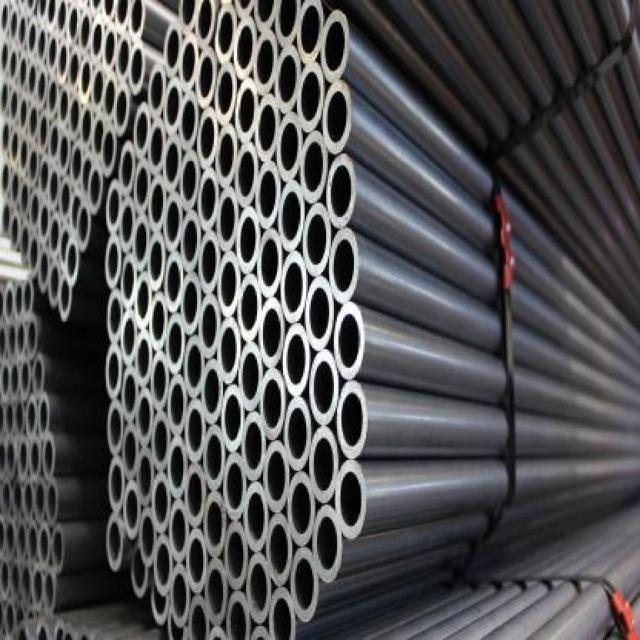pipe: (335, 461, 367, 539), (334, 301, 365, 380), (313, 505, 344, 583), (329, 227, 360, 304), (309, 425, 339, 503), (322, 80, 353, 155), (309, 350, 339, 425), (302, 203, 332, 277), (304, 276, 334, 350), (327, 153, 356, 229), (299, 130, 329, 203), (291, 546, 319, 623), (288, 471, 316, 547), (321, 10, 350, 83), (265, 512, 293, 587), (282, 323, 310, 397), (280, 251, 308, 324), (284, 398, 312, 471), (278, 180, 306, 251), (298, 61, 325, 134), (259, 368, 286, 441), (263, 441, 290, 514), (276, 112, 303, 183), (258, 297, 285, 368), (256, 229, 283, 299), (275, 44, 302, 113), (255, 160, 282, 229), (239, 341, 264, 412), (244, 482, 269, 553), (247, 553, 272, 624), (296, 0, 324, 63), (255, 93, 280, 163), (241, 411, 266, 481), (237, 273, 262, 342), (224, 522, 249, 590), (253, 29, 278, 97), (235, 142, 260, 207), (237, 205, 260, 275), (223, 452, 246, 522), (217, 250, 240, 318), (218, 317, 241, 385), (221, 384, 244, 452), (203, 490, 226, 558), (205, 558, 228, 626), (234, 15, 257, 82), (268, 586, 296, 640), (235, 78, 258, 143), (201, 358, 224, 423), (185, 462, 207, 529), (216, 186, 238, 252), (215, 62, 238, 125), (215, 2, 238, 65), (197, 167, 219, 232), (185, 399, 207, 464), (199, 293, 220, 360), (186, 528, 207, 595), (197, 107, 219, 170), (216, 123, 237, 188), (199, 230, 220, 295), (204, 426, 225, 491), (196, 46, 217, 109), (181, 272, 202, 335), (275, 0, 302, 48), (184, 335, 204, 398), (168, 373, 188, 436), (179, 149, 199, 211), (180, 211, 200, 273), (169, 500, 189, 562), (154, 535, 174, 597), (171, 563, 190, 628), (226, 592, 251, 640), (168, 436, 187, 499), (166, 313, 185, 375), (152, 471, 171, 533), (179, 32, 198, 94), (164, 75, 183, 136), (179, 91, 198, 152), (147, 231, 166, 292), (164, 251, 183, 312), (194, 0, 217, 50), (164, 192, 183, 252), (150, 351, 169, 411), (163, 134, 182, 193), (149, 174, 168, 233), (149, 291, 168, 350), (135, 330, 154, 388), (135, 388, 154, 446), (152, 412, 171, 470), (135, 447, 154, 505), (148, 62, 167, 119), (133, 102, 152, 159), (132, 214, 151, 271), (164, 21, 183, 78), (148, 118, 167, 174), (130, 543, 149, 598), (123, 480, 140, 540), (140, 507, 157, 567), (135, 271, 152, 330), (121, 308, 138, 367), (106, 513, 123, 572), (105, 233, 122, 290), (120, 253, 137, 310), (122, 423, 139, 480), (120, 196, 137, 252), (189, 595, 210, 640), (106, 344, 123, 399), (122, 366, 139, 421), (107, 400, 124, 455), (109, 457, 126, 512), (113, 82, 130, 136), (119, 140, 136, 194), (134, 158, 151, 212), (106, 180, 123, 233), (129, 42, 146, 95), (107, 288, 123, 344), (252, 0, 277, 34), (101, 124, 117, 177), (88, 161, 104, 214), (116, 34, 133, 83), (102, 71, 118, 122), (102, 23, 118, 74), (128, 0, 147, 42), (35, 520, 51, 567), (51, 525, 67, 571), (30, 566, 46, 612), (43, 570, 60, 613), (79, 55, 93, 106), (65, 236, 79, 287), (91, 13, 105, 64), (45, 480, 61, 523), (92, 63, 106, 112), (69, 139, 83, 188), (68, 93, 82, 141), (92, 112, 106, 160), (77, 203, 91, 251), (56, 39, 70, 87), (42, 432, 56, 480), (32, 478, 48, 520), (79, 101, 93, 148), (59, 275, 73, 322), (59, 176, 73, 222), (58, 83, 71, 132), (58, 223, 71, 272), (79, 7, 92, 56), (68, 45, 82, 90), (28, 436, 42, 481), (38, 245, 51, 293), (48, 260, 61, 308), (58, 132, 72, 175), (25, 521, 39, 564), (66, 1, 80, 43), (38, 199, 51, 244), (48, 213, 61, 258), (12, 397, 26, 437), (47, 76, 60, 119), (28, 234, 41, 277), (28, 101, 41, 143), (55, 0, 69, 39), (69, 191, 82, 233), (17, 437, 30, 479), (36, 64, 48, 109), (9, 359, 22, 400), (5, 440, 18, 481), (114, 1, 130, 34), (11, 479, 25, 516), (46, 31, 58, 74), (15, 318, 28, 357), (19, 563, 32, 602), (38, 109, 49, 154), (82, 152, 93, 197), (27, 15, 38, 60), (38, 392, 49, 437), (25, 398, 38, 436), (5, 520, 18, 557), (49, 121, 60, 164), (49, 168, 60, 211), (29, 188, 40, 231), (20, 221, 31, 264), (45, 0, 59, 33), (9, 4, 20, 46), (33, 353, 44, 395), (20, 358, 31, 400), (0, 362, 11, 404), (9, 560, 20, 602), (18, 94, 29, 135), (14, 280, 25, 321), (17, 519, 28, 560), (5, 598, 16, 639), (39, 157, 50, 197), (9, 211, 20, 251), (18, 12, 29, 52), (27, 59, 38, 98), (9, 128, 20, 167), (29, 146, 40, 185), (9, 168, 20, 207), (19, 179, 30, 218), (27, 316, 38, 355), (23, 478, 34, 517), (37, 25, 48, 63), (4, 400, 15, 438), (4, 280, 14, 321), (18, 53, 29, 90), (19, 137, 30, 174), (9, 46, 20, 83), (23, 278, 34, 315), (0, 480, 11, 517), (1, 37, 11, 73), (7, 322, 17, 358), (0, 558, 9, 597), (0, 326, 8, 361)
